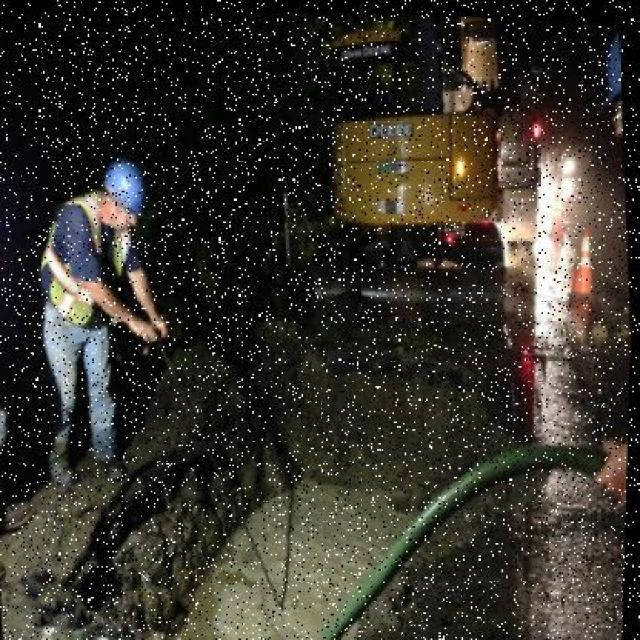helmet: (89, 160, 145, 238)
